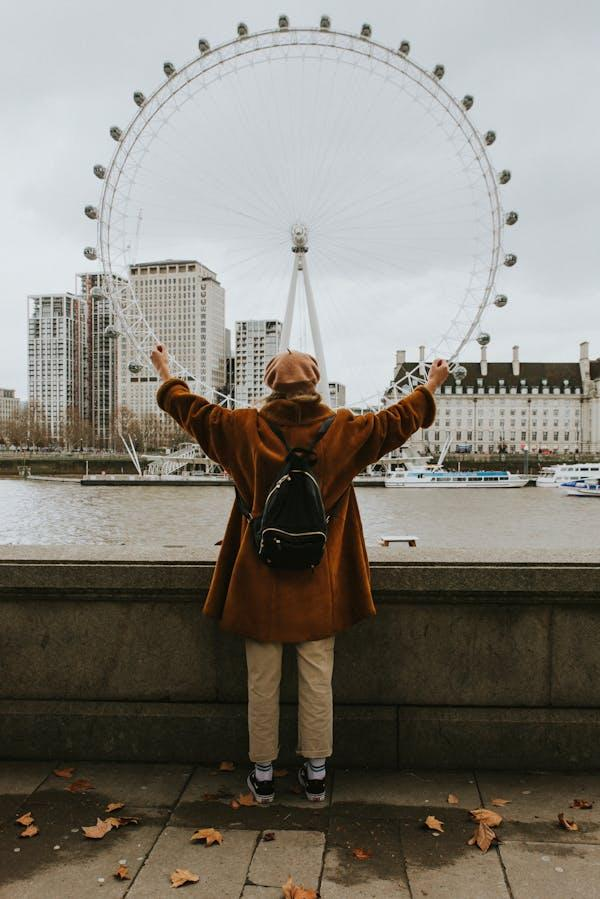Human: (138, 313, 455, 789)
